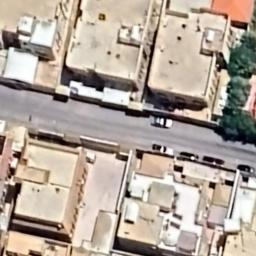pickup: (148, 113, 176, 129), (151, 142, 174, 156)
sedan: (202, 154, 226, 168), (178, 150, 200, 161)
van: (236, 162, 254, 174)
